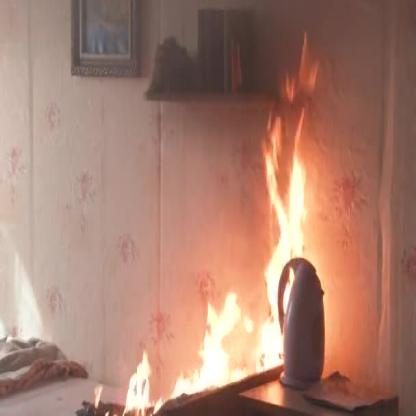fire: (122, 35, 322, 416)
